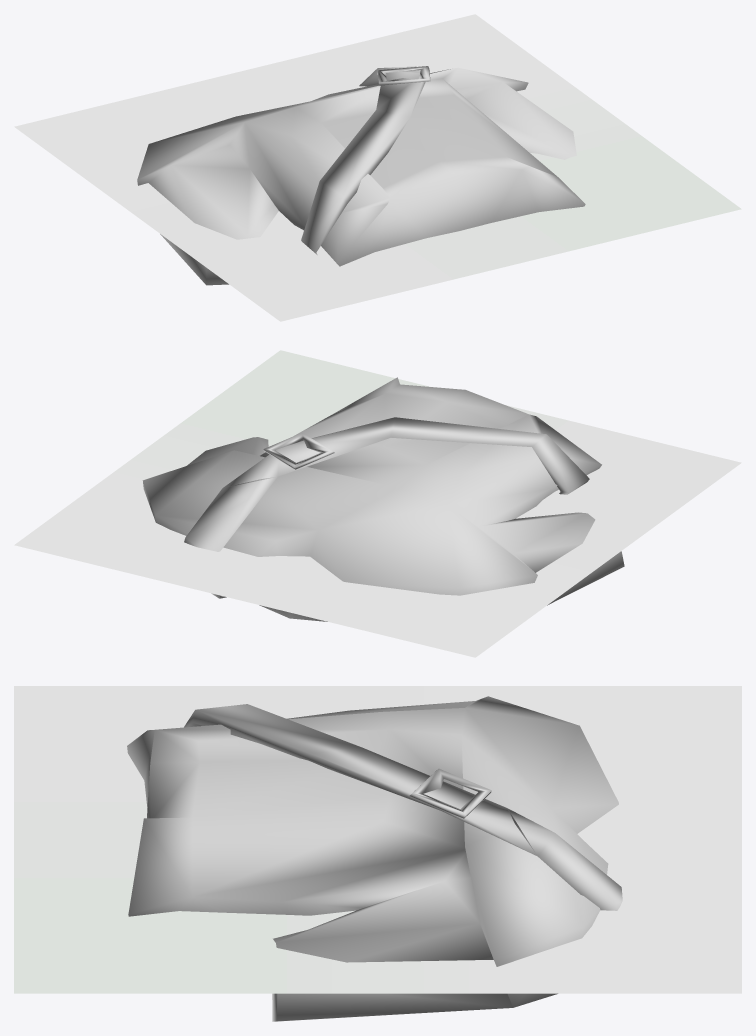
File: ITAR_TRV_04.glb
3 views of the same model, one above another, from view 1: azimuth 30°, elevation 25°; view 2: azimuth 150°, elevation 25°; view 3: azimuth 270°, elevation 25° (orthographic). The views are drawn at different scales.
Visible parts, largest first — view 1: Mesh; view 2: Mesh; view 3: Mesh.
Part boxes in pixels (x1,y1,x2,y2): Mesh: (14,14,741,321); Mesh: (14,350,741,657); Mesh: (14,686,741,1021).
Size of the model in its own units: 0.7192 by 0.2016 by 0.7192.
2 materials, 1 textured.
